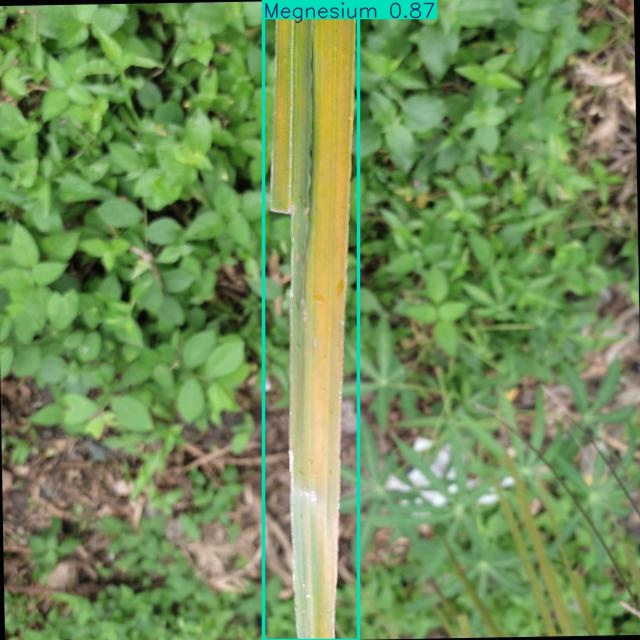Megnesium: (264, 1, 358, 640)
